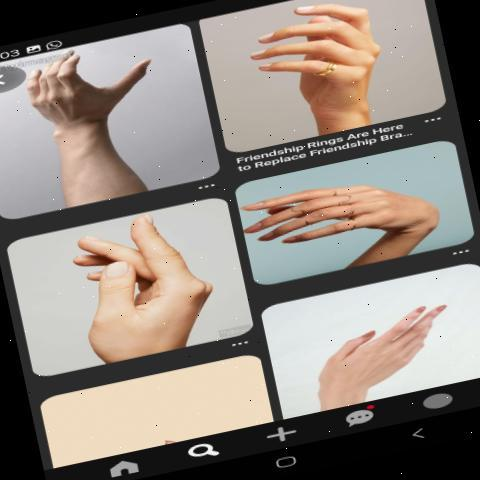Hands: (59, 205, 240, 356), (287, 300, 480, 407), (239, 4, 402, 128), (242, 182, 470, 267), (23, 56, 180, 174)
